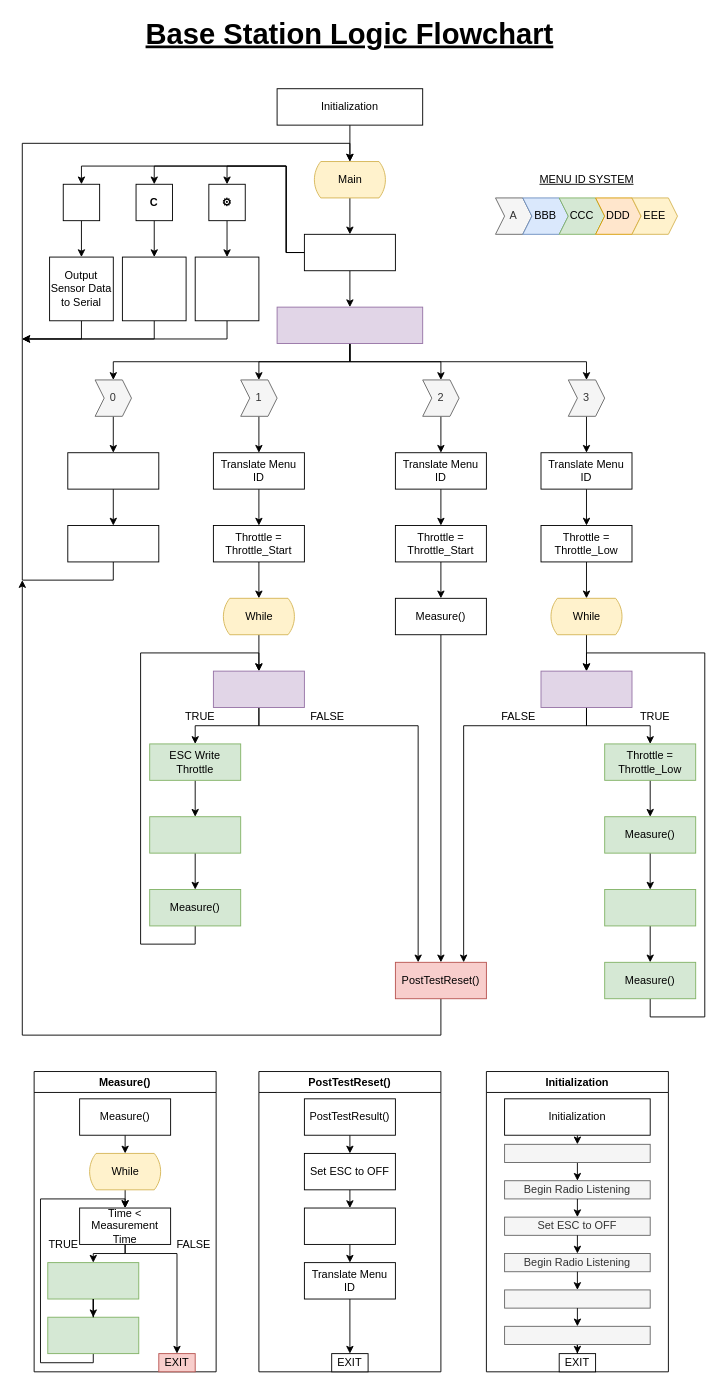
Image size: 728x1388. Some labels were removed from this diagram. Here are the shapes that lost their labels. From the top down, the centre of each, then its label:
point 81,202: SO
point 349,252: Check Button Press
point 153,288: Output Calibration Procedure to Serial
point 226,288: Output Settings Options to Serial
point 349,325: IF (A == X)
point 113,470: Read Radio
point 113,543: Decode Message ID
point 258,689: Throttle < Throttle_End
point 586,689: Time < Test Time
point 195,834: Throttle = Throttle + Throttle_Step
point 650,907: Throttle = Throttle_High
point 577,1153: Set Menu ID to all 0s
point 349,1225: Set Menu IDs to all 0s
point 93,1280: Safety Check vs Limits
point 577,1298: Set Default Settings
point 93,1335: Write Data to SD Card
point 577,1335: Measure Ambient Conditions
